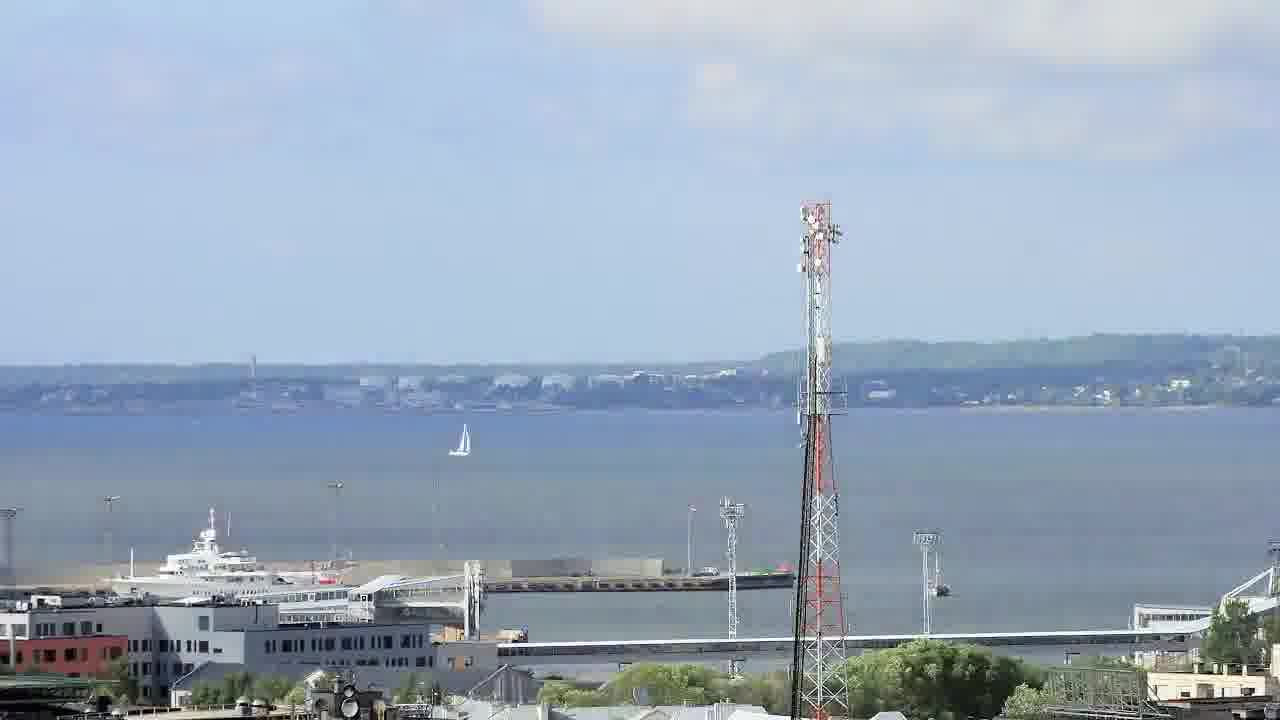type-0: (912, 569, 968, 618)
type-2: (434, 411, 493, 463)
type-3: (98, 503, 361, 603)
